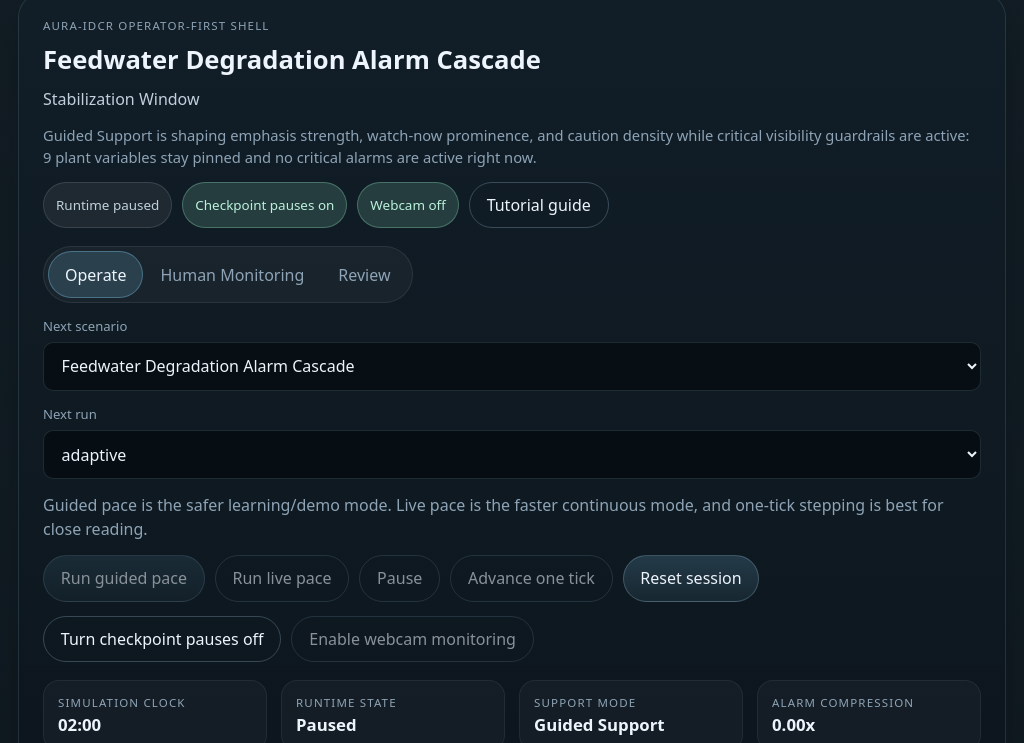
Scenario: AuraSessionStore › renders evaluator export controls after a terminal outcome
Click the tab "Review" at (364, 275), box [321,251,408,298]
(page scrolled)
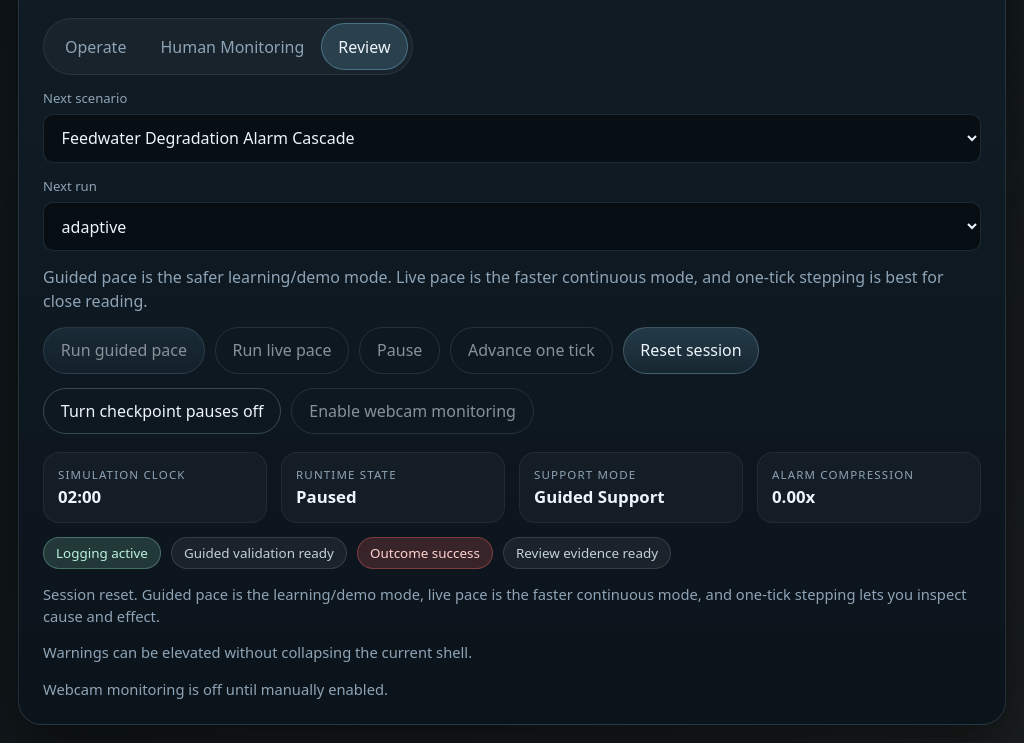
Expected: the button "Download session report" is enabled, [62,346,285,392]
Expected: the element with test id "evaluation-action-bar" is shown, [43,281,981,556]
Expected: the button "Download comparison report" is disabled, [62,490,318,537]
